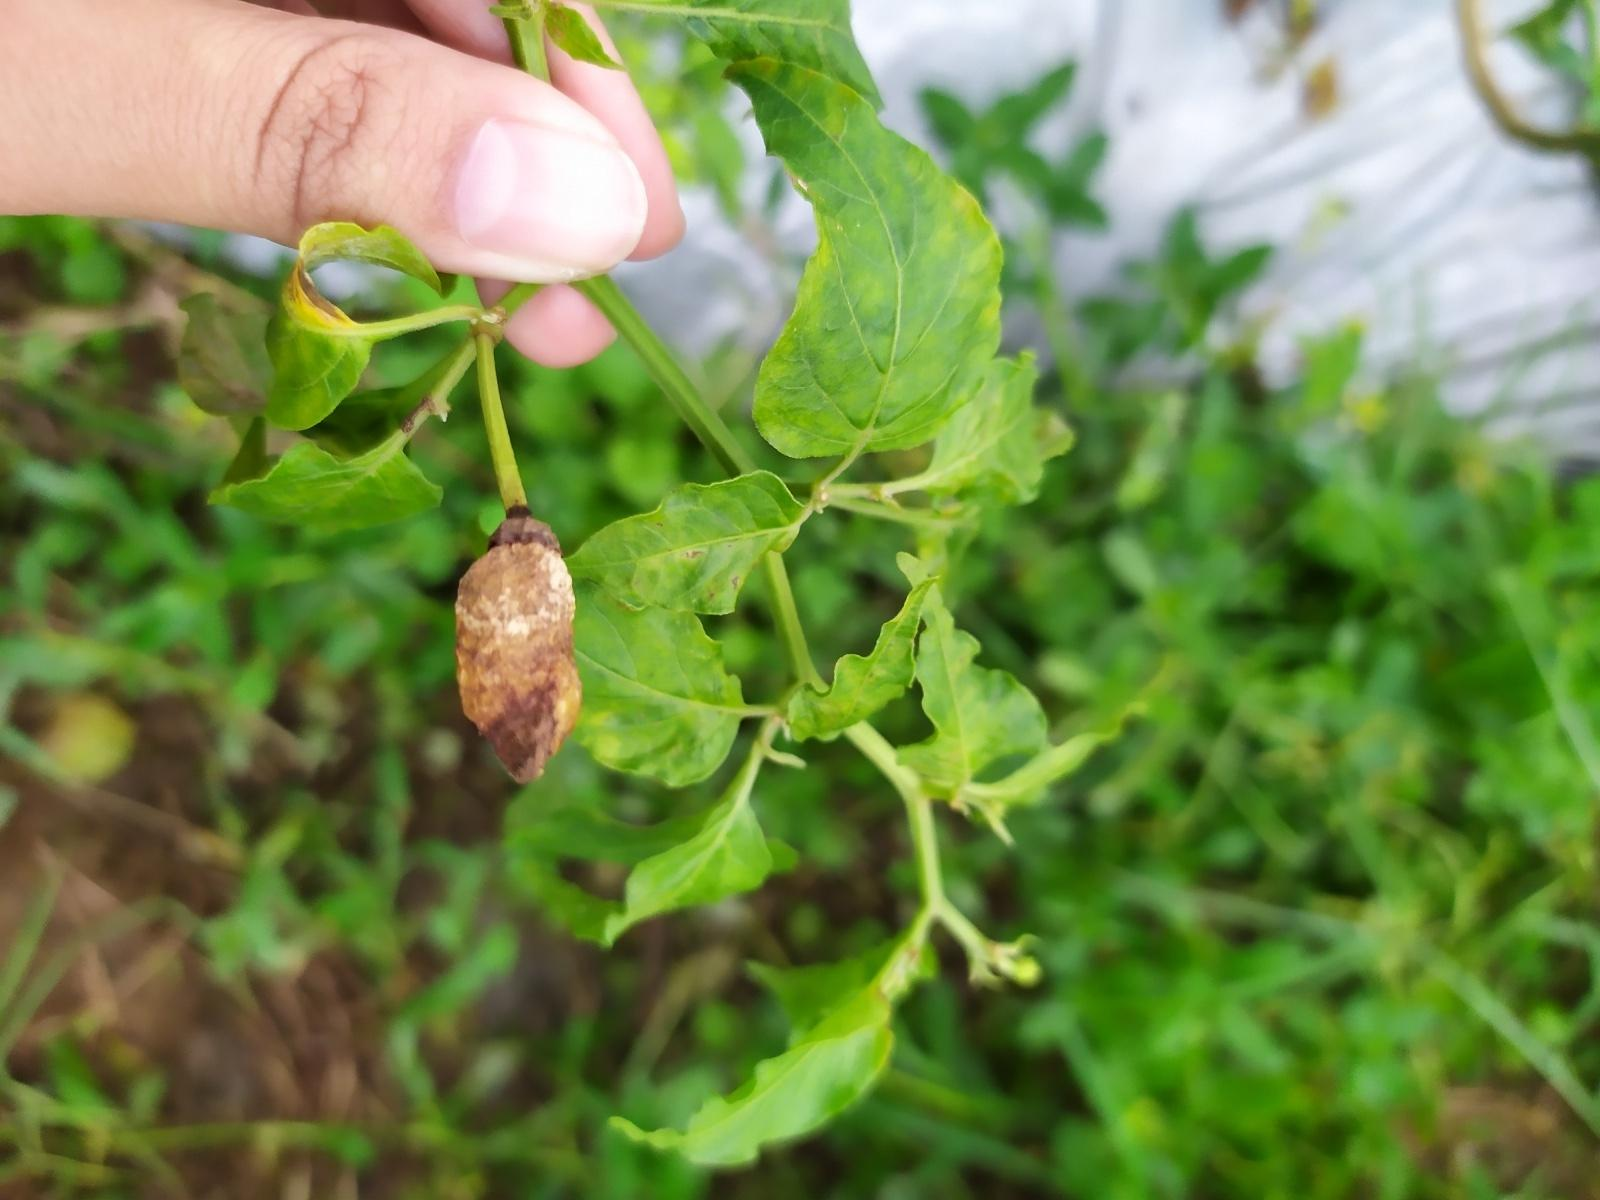antraknosa: (454, 516, 585, 787)
